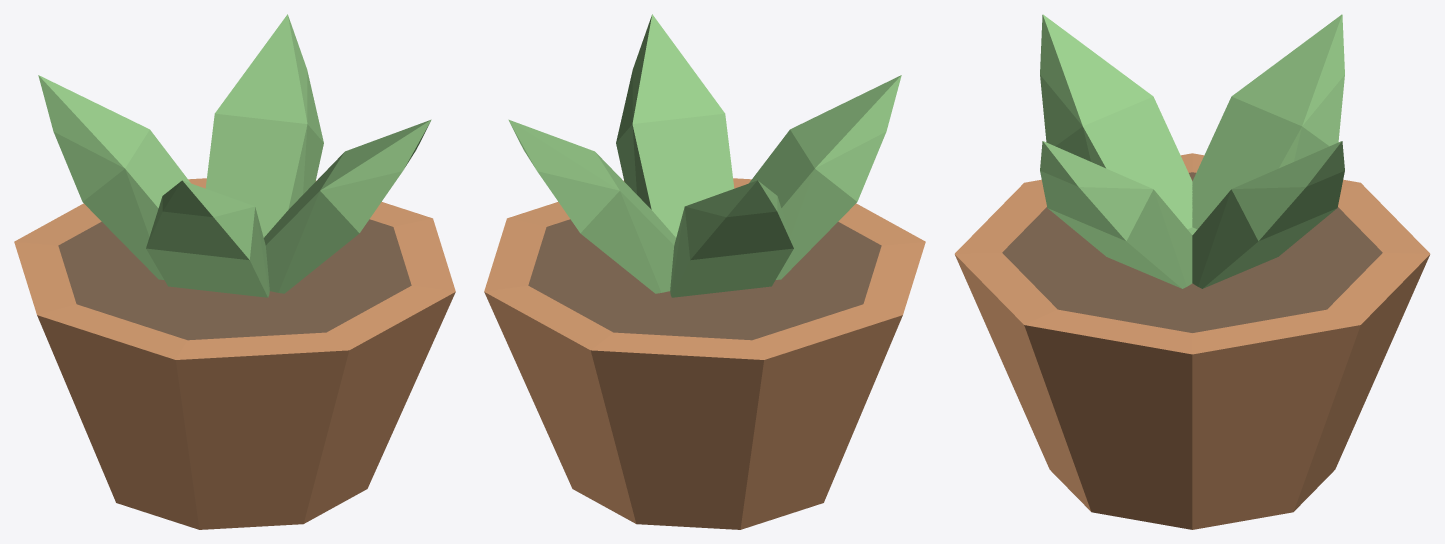
The model's file is flowerpot_d2.glb.
The picture shows the model from 3 angles, left to right: view 1: azimuth 30°, elevation 25°; view 2: azimuth 150°, elevation 25°; view 3: azimuth 270°, elevation 25°; orthographic projection. The views are drawn at different scales.
Parts seen in each view (by area): view 1: flowerpot_d2_pot_with_soil_face, flowerpot_d2_leaf_01_green, flowerpot_d2_leaf_02_green, flowerpot_d2_leaf_04_green, flowerpot_d2_leaf_03_green; view 2: flowerpot_d2_pot_with_soil_face, flowerpot_d2_leaf_04_green, flowerpot_d2_leaf_03_green, flowerpot_d2_leaf_01_green, flowerpot_d2_leaf_02_green; view 3: flowerpot_d2_pot_with_soil_face, flowerpot_d2_leaf_02_green, flowerpot_d2_leaf_03_green, flowerpot_d2_leaf_01_green, flowerpot_d2_leaf_04_green.
Part boxes in pixels (x1,y1,x2,y2): flowerpot_d2_pot_with_soil_face: (14, 178, 455, 529); flowerpot_d2_leaf_01_green: (205, 14, 323, 237); flowerpot_d2_leaf_02_green: (38, 75, 190, 279); flowerpot_d2_leaf_04_green: (264, 119, 431, 293); flowerpot_d2_leaf_03_green: (146, 180, 269, 297); flowerpot_d2_pot_with_soil_face: (484, 178, 925, 529); flowerpot_d2_leaf_04_green: (616, 14, 734, 237); flowerpot_d2_leaf_03_green: (749, 75, 901, 279); flowerpot_d2_leaf_01_green: (508, 119, 675, 293); flowerpot_d2_leaf_02_green: (670, 180, 793, 297); flowerpot_d2_pot_with_soil_face: (954, 153, 1430, 529); flowerpot_d2_leaf_02_green: (1192, 14, 1344, 229); flowerpot_d2_leaf_03_green: (1040, 14, 1192, 229); flowerpot_d2_leaf_01_green: (1192, 141, 1344, 288); flowerpot_d2_leaf_04_green: (1040, 141, 1192, 288).
Bounding box in the file's own units: 0.22 × 0.2 × 0.22.
